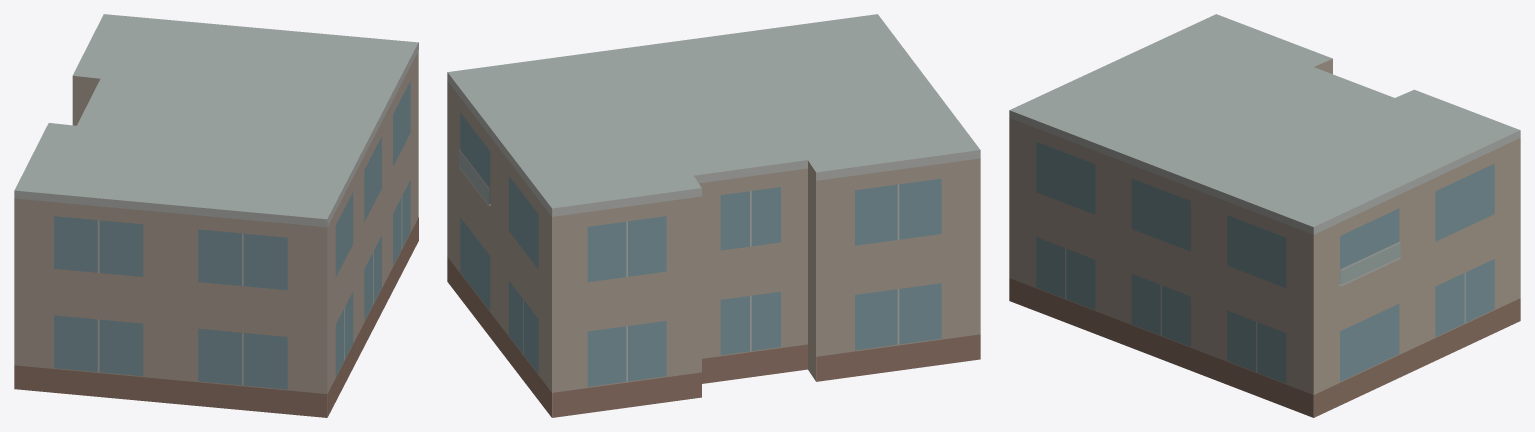
File: survey-upis-32911803.glb
3 renders of one model, left to right at view 1: azimuth 30°, elevation 25°; view 2: azimuth 150°, elevation 25°; view 3: azimuth 270°, elevation 25°, orthographic. The views are drawn at different scales.
Visible parts, largest first — view 1: survey-upis-32911803.tmp; view 2: survey-upis-32911803.tmp; view 3: survey-upis-32911803.tmp.
Boxes of the visible parts, x1=… form: survey-upis-32911803.tmp: x1=14, y1=14, x2=418, y2=417; survey-upis-32911803.tmp: x1=447, y1=14, x2=980, y2=417; survey-upis-32911803.tmp: x1=1009, y1=14, x2=1520, y2=417.
Bounding box in the file's own units: 14.64 × 6.1 × 14.83.
